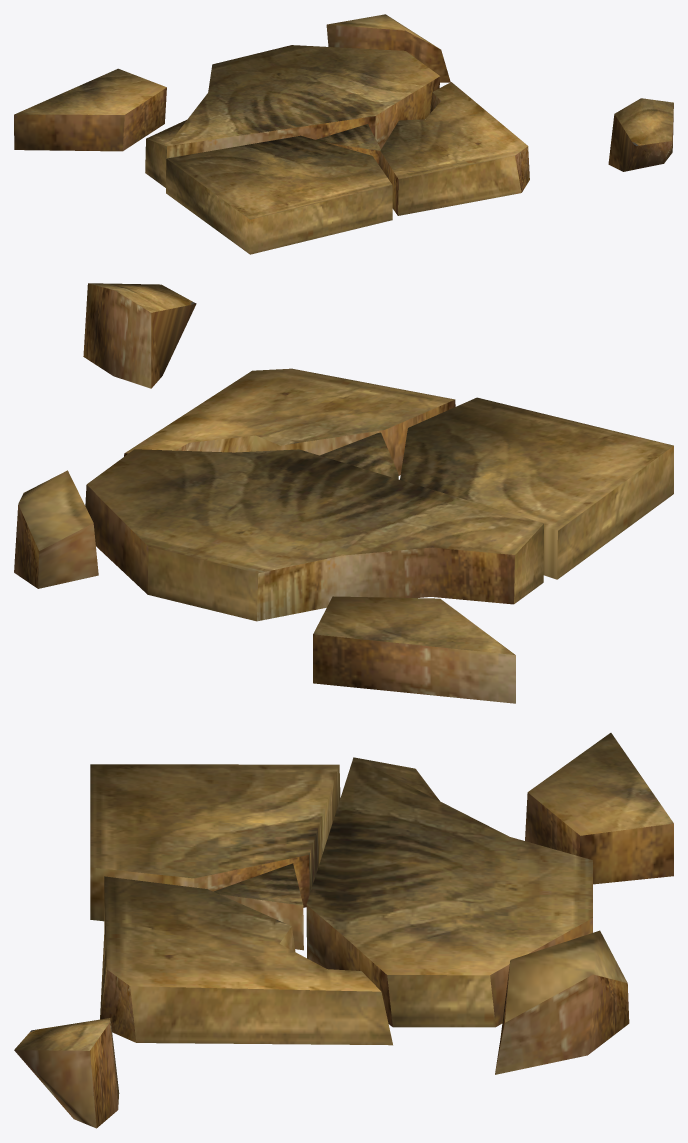
Rendered from S_Build_Desert070.FBX.
3 renders of one model, top to bottom at view 1: azimuth 30°, elevation 25°; view 2: azimuth 150°, elevation 25°; view 3: azimuth 270°, elevation 25°, orthographic. The views are drawn at different scales.
Visible parts, largest first — view 1: S_Build_Desert070; view 2: S_Build_Desert070; view 3: S_Build_Desert070.
Part boxes in pixels (x1,y1,x2,y2): S_Build_Desert070: [14, 14, 673, 254]; S_Build_Desert070: [14, 283, 673, 703]; S_Build_Desert070: [14, 733, 673, 1128].
Bounding box in the file's own units: 419 × 332 × 53.33.
